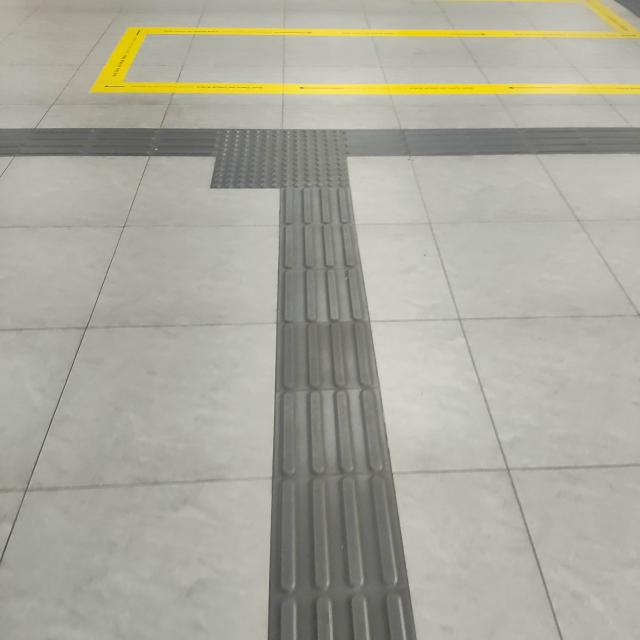lurus: (252, 177, 403, 640)
